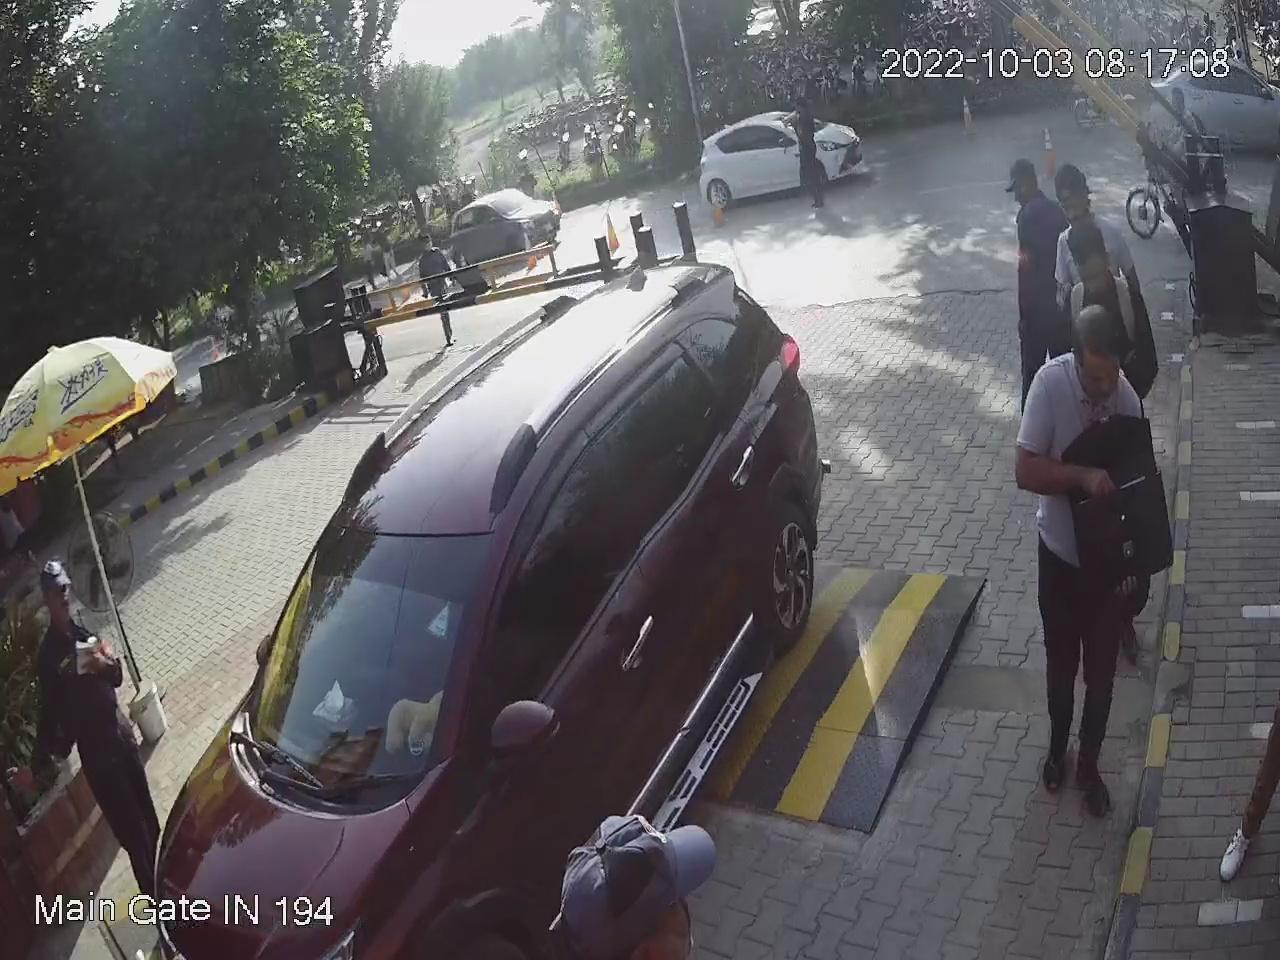windshield: (226, 520, 513, 818)
